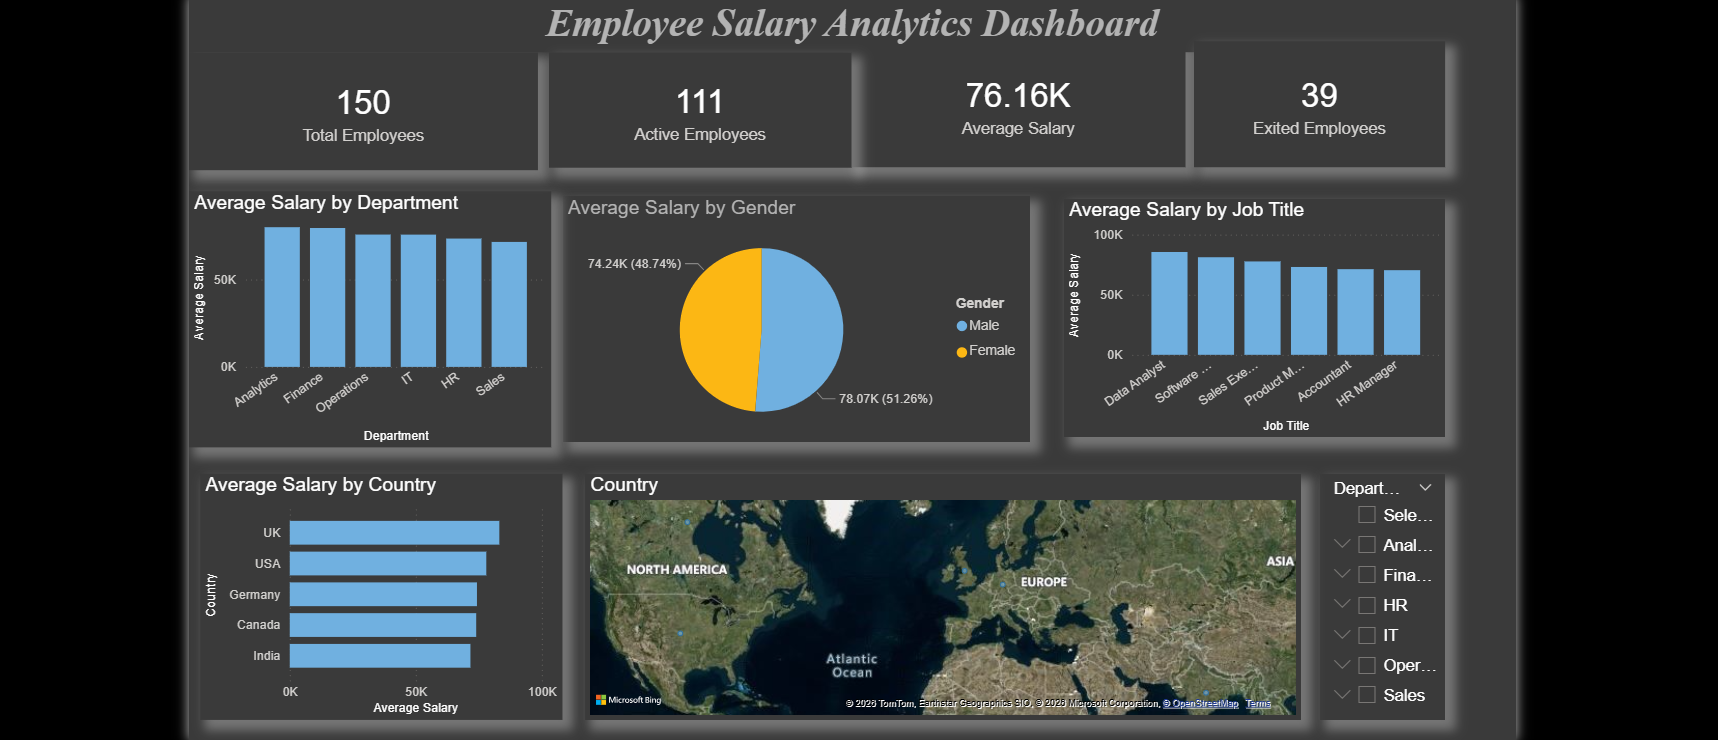

Layout of this report page (visuals, bound fields, positions):
{"tool":"powerbi","page":{"name":"Employee Salary Analytics Dashboard","canvas":[1280,720],"ordinal":0},"visuals":[{"type":"clusteredColumnChart","fields":{"Category":["Employee_Data.Department"],"Y":["Employee_Data.Average Salary"]},"box":[0,189.4,349.9,247.3],"z":0},{"type":"pieChart","fields":{"Y":["Employee_Data.Average Salary"],"Category":["Employee_Data.Gender"]},"box":[360.7,194.2,451.2,237.7],"z":1000},{"type":"clusteredBarChart","fields":{"Y":["Employee_Data.Average Salary"],"Category":["Employee_Data.Country"]},"box":[10.9,462.1,349.9,237.7],"z":2000},{"type":"columnChart","fields":{"Y":["Employee_Data.Average Salary"],"Category":["Employee_Data.Job Title"]},"box":[844.5,196.6,368,230.4],"z":3000},{"type":"card","fields":{"Values":["Employee_Data.Average Salary"]},"box":[639.4,44.6,322.1,121.9],"z":4000},{"type":"slicer","fields":{"Values":["Employee_Data.Department","Employee_Data.Gender","Employee_Data.Country","Employee_Data.Business Unit"]},"box":[1091.8,462.1,120.6,237.7],"z":5000},{"type":"card","fields":{"Values":["Employee_Data.Total Employees"]},"box":[0,55.5,336.6,113.4],"z":6000},{"type":"textbox","box":[0,0,1280.3,55],"z":7000},{"type":"card","fields":{"Values":["Employee_Data.Active Employees"]},"box":[347.5,55.5,292,111],"z":8000},{"type":"card","fields":{"Values":["Employee_Data.Exited Employees"]},"box":[970,44.6,242.5,121.9],"z":9000},{"type":"map","fields":{"Category":["Employee_Data.Country"]},"box":[382.4,462.1,691.3,237.7],"z":10000}]}

Visuals, with their boxes on the page's 1280x720 design canvas (x1, y1, x2, y2). These are canvas units, not pixel positions in the 1718x740 screenshot, which may show the page scaled, cropped or inside an application window:
clusteredColumnChart - Employee_Data.Department x Employee_Data.Average Salary: BBox(0, 189, 350, 437)
pieChart - Employee_Data.Average Salary x Employee_Data.Gender: BBox(361, 194, 812, 432)
clusteredBarChart - Employee_Data.Average Salary x Employee_Data.Country: BBox(11, 462, 361, 700)
columnChart - Employee_Data.Average Salary x Employee_Data.Job Title: BBox(844, 197, 1212, 427)
card - Employee_Data.Average Salary: BBox(639, 45, 962, 166)
slicer - Employee_Data.Department x Employee_Data.Gender: BBox(1092, 462, 1212, 700)
card - Employee_Data.Total Employees: BBox(0, 56, 337, 169)
textbox: BBox(0, 0, 1280, 55)
card - Employee_Data.Active Employees: BBox(348, 56, 640, 166)
card - Employee_Data.Exited Employees: BBox(970, 45, 1212, 166)
map - Employee_Data.Country: BBox(382, 462, 1074, 700)
